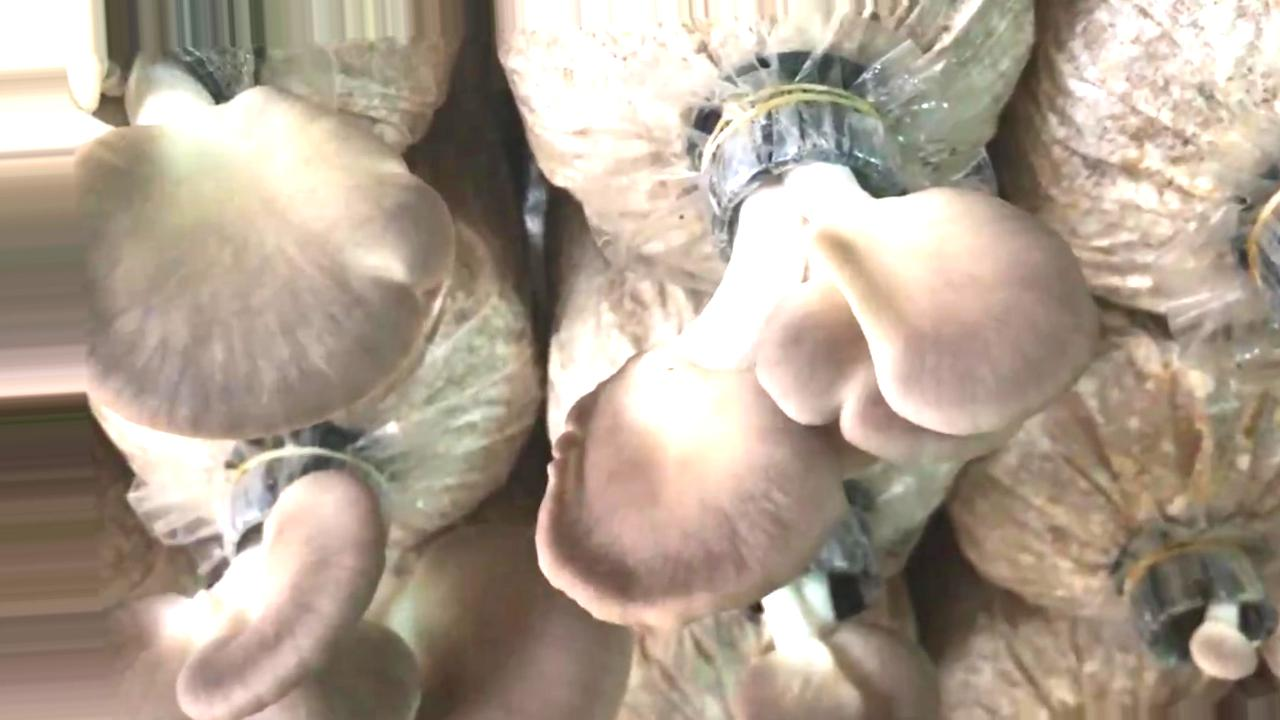nam: (539, 86, 1096, 626), (1, 52, 456, 442), (1, 445, 631, 720), (735, 499, 938, 720), (1135, 537, 1274, 677)
